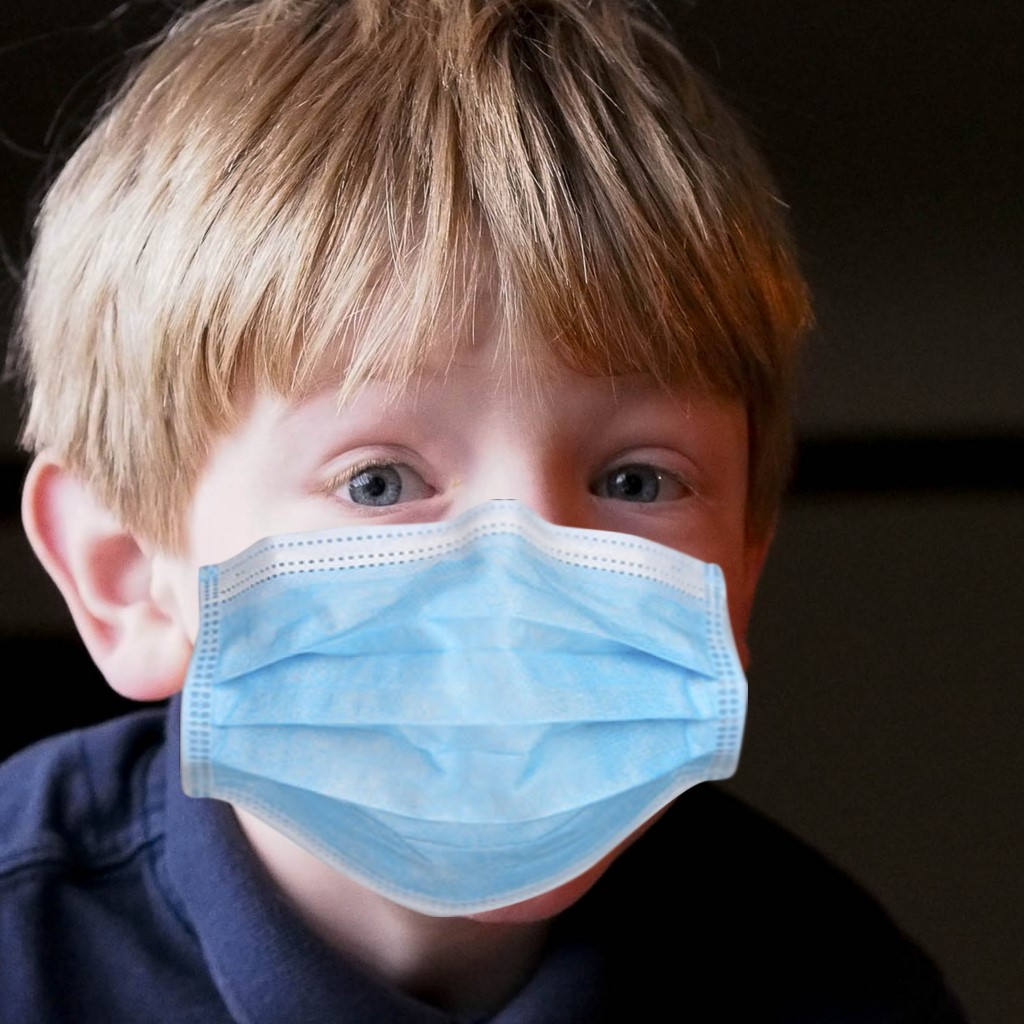con_mascara: (105, 208, 750, 921)
